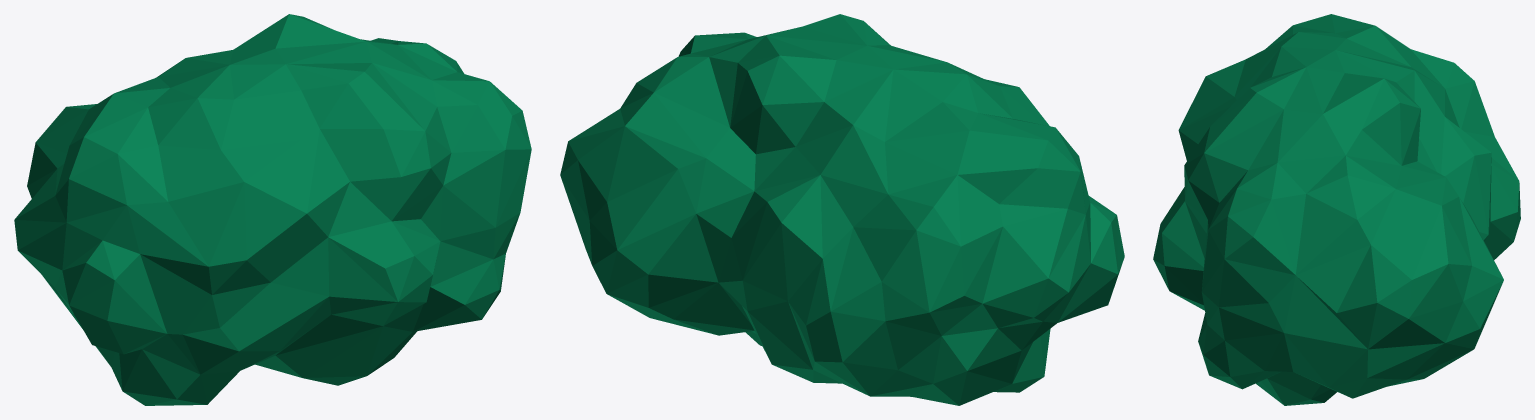
Rendered from bush_1.fbx.
The picture shows the model from 3 angles, left to right: view 1: azimuth 30°, elevation 25°; view 2: azimuth 150°, elevation 25°; view 3: azimuth 270°, elevation 25°; orthographic projection. The views are drawn at different scales.
Visible parts, largest first — view 1: bush1; view 2: bush1; view 3: bush1.
Boxes of the visible parts, x1=… form: bush1: x1=14, y1=14, x2=531, y2=405; bush1: x1=560, y1=14, x2=1124, y2=405; bush1: x1=1153, y1=14, x2=1520, y2=405.
Bounding box in the file's own units: 170 × 112 × 120.
